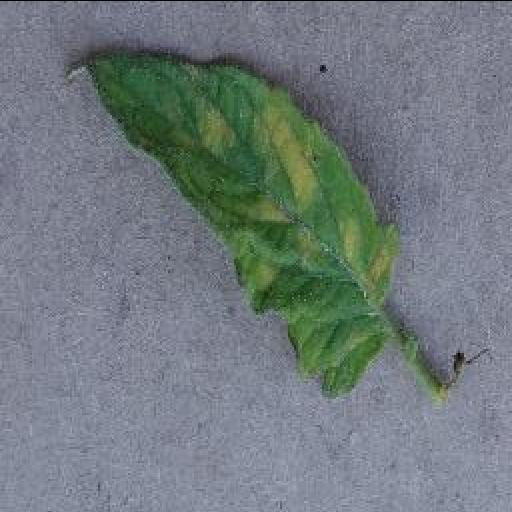disease_tomato: (76, 54, 400, 396)
